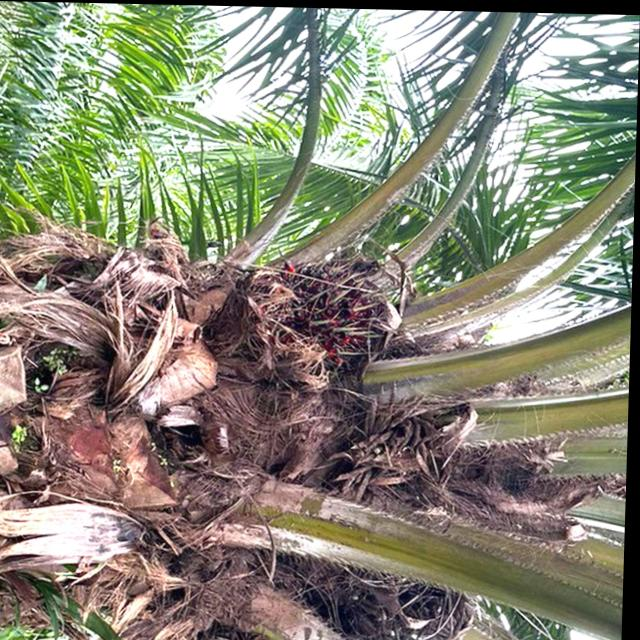ripe: (257, 239, 396, 385)
